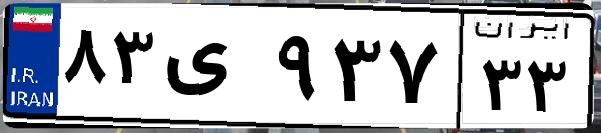3: (330, 28, 385, 110), (475, 38, 525, 113), (525, 38, 570, 115), (110, 28, 158, 98)
7: (385, 28, 445, 110)
8: (57, 26, 110, 100)
9: (270, 28, 330, 110)
ی: (158, 20, 270, 120)
